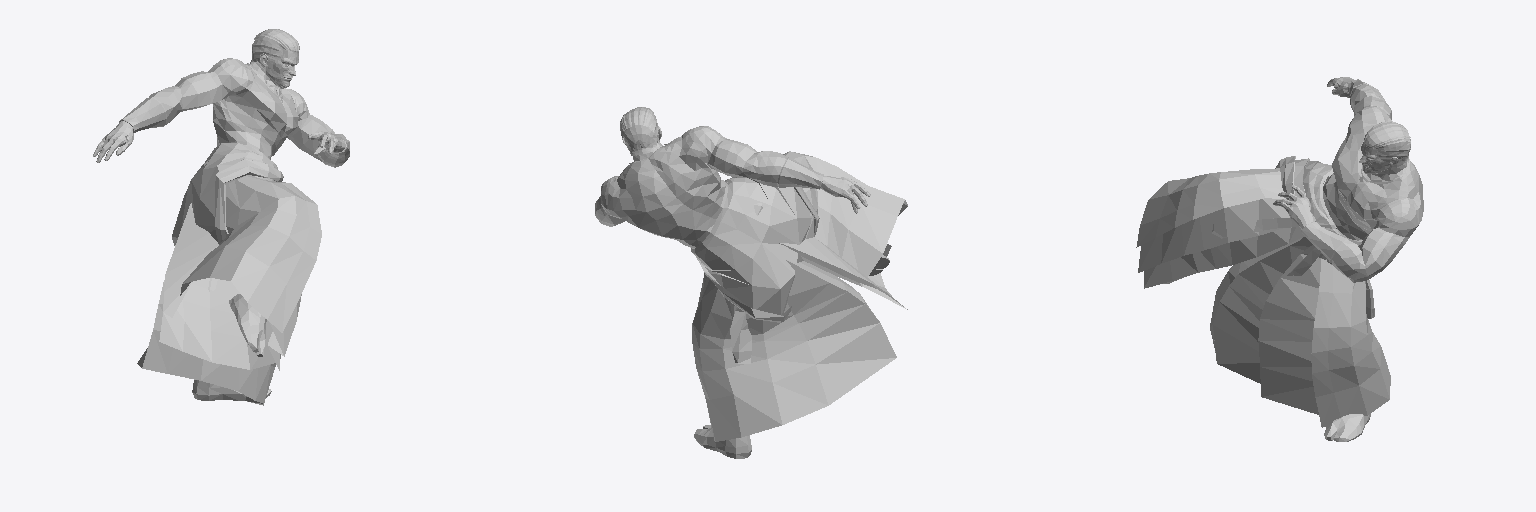
Rendered from geese_attack_000038.obj.
The picture shows the model from 3 angles: view 1: azimuth 30°, elevation 25°; view 2: azimuth 150°, elevation 25°; view 3: azimuth 270°, elevation 25°; orthographic projection.
Visible parts, largest first — view 1: GamemodelShape1.002, hairShape; view 2: GamemodelShape1.002, hairShape; view 3: GamemodelShape1.002, hairShape.
Part boxes in pixels (x1,y1,x2,y2): GamemodelShape1.002: (93, 49, 349, 405); hairShape: (250, 29, 299, 62); GamemodelShape1.002: (595, 126, 907, 458); hairShape: (620, 107, 658, 155); GamemodelShape1.002: (1136, 77, 1423, 441); hairShape: (1364, 121, 1410, 162).
Size of the model in its own units: 3.62 by 4.48 by 3.48.